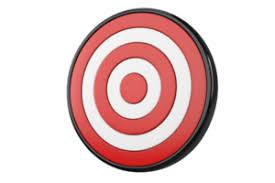target_red: (66, 6, 218, 172)
